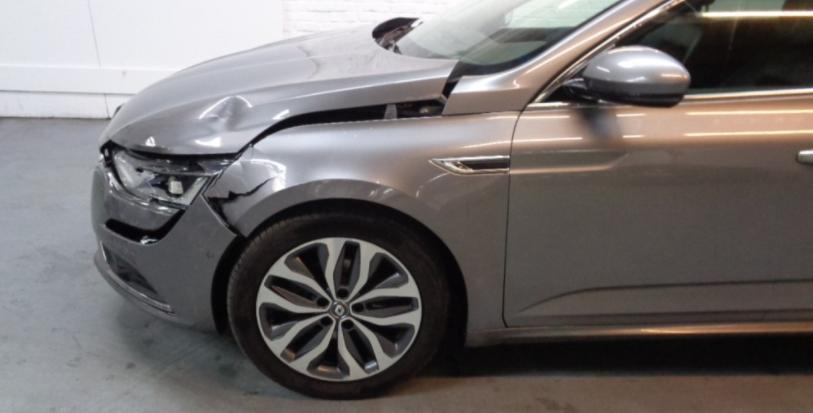Fender: (201, 110, 524, 329)
Front-bumper: (90, 157, 237, 333)
Front-door: (503, 0, 812, 326)
Front-wheel: (225, 200, 451, 398)
Front-window: (613, 0, 812, 94)
Headlight: (111, 146, 238, 215)
Hood: (98, 18, 458, 157)
Mirror: (560, 46, 690, 110)
Rocker-panel: (464, 321, 812, 348)
Windshield: (378, 0, 627, 79)
